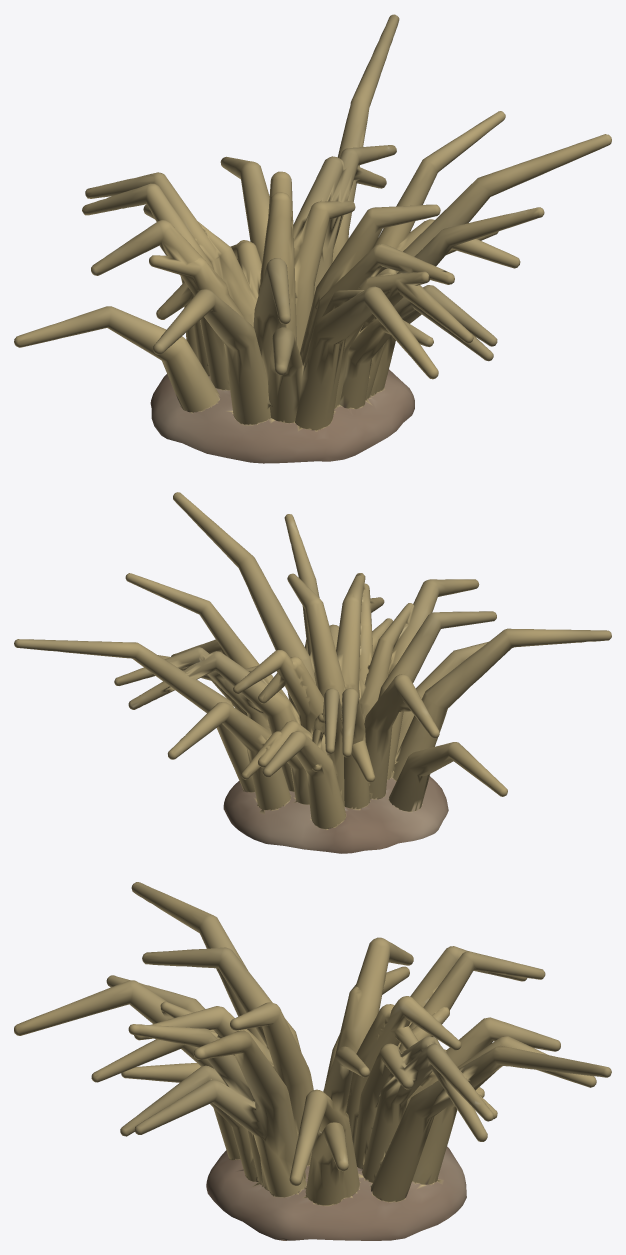
File: grass-turf3.glb
3 views of the same model, one above another, from view 1: azimuth 30°, elevation 25°; view 2: azimuth 150°, elevation 25°; view 3: azimuth 270°, elevation 25° (orthographic). The views are drawn at different scales.
Visible parts, largest first — view 1: body; view 2: body; view 3: body.
Boxes of the visible parts, box(x1,y1,x2,y2) form: body: box(14, 14, 611, 463); body: box(14, 492, 611, 853); body: box(14, 882, 611, 1240).
Bounding box in the file's own units: 0.7687 × 0.3967 × 0.7913.
